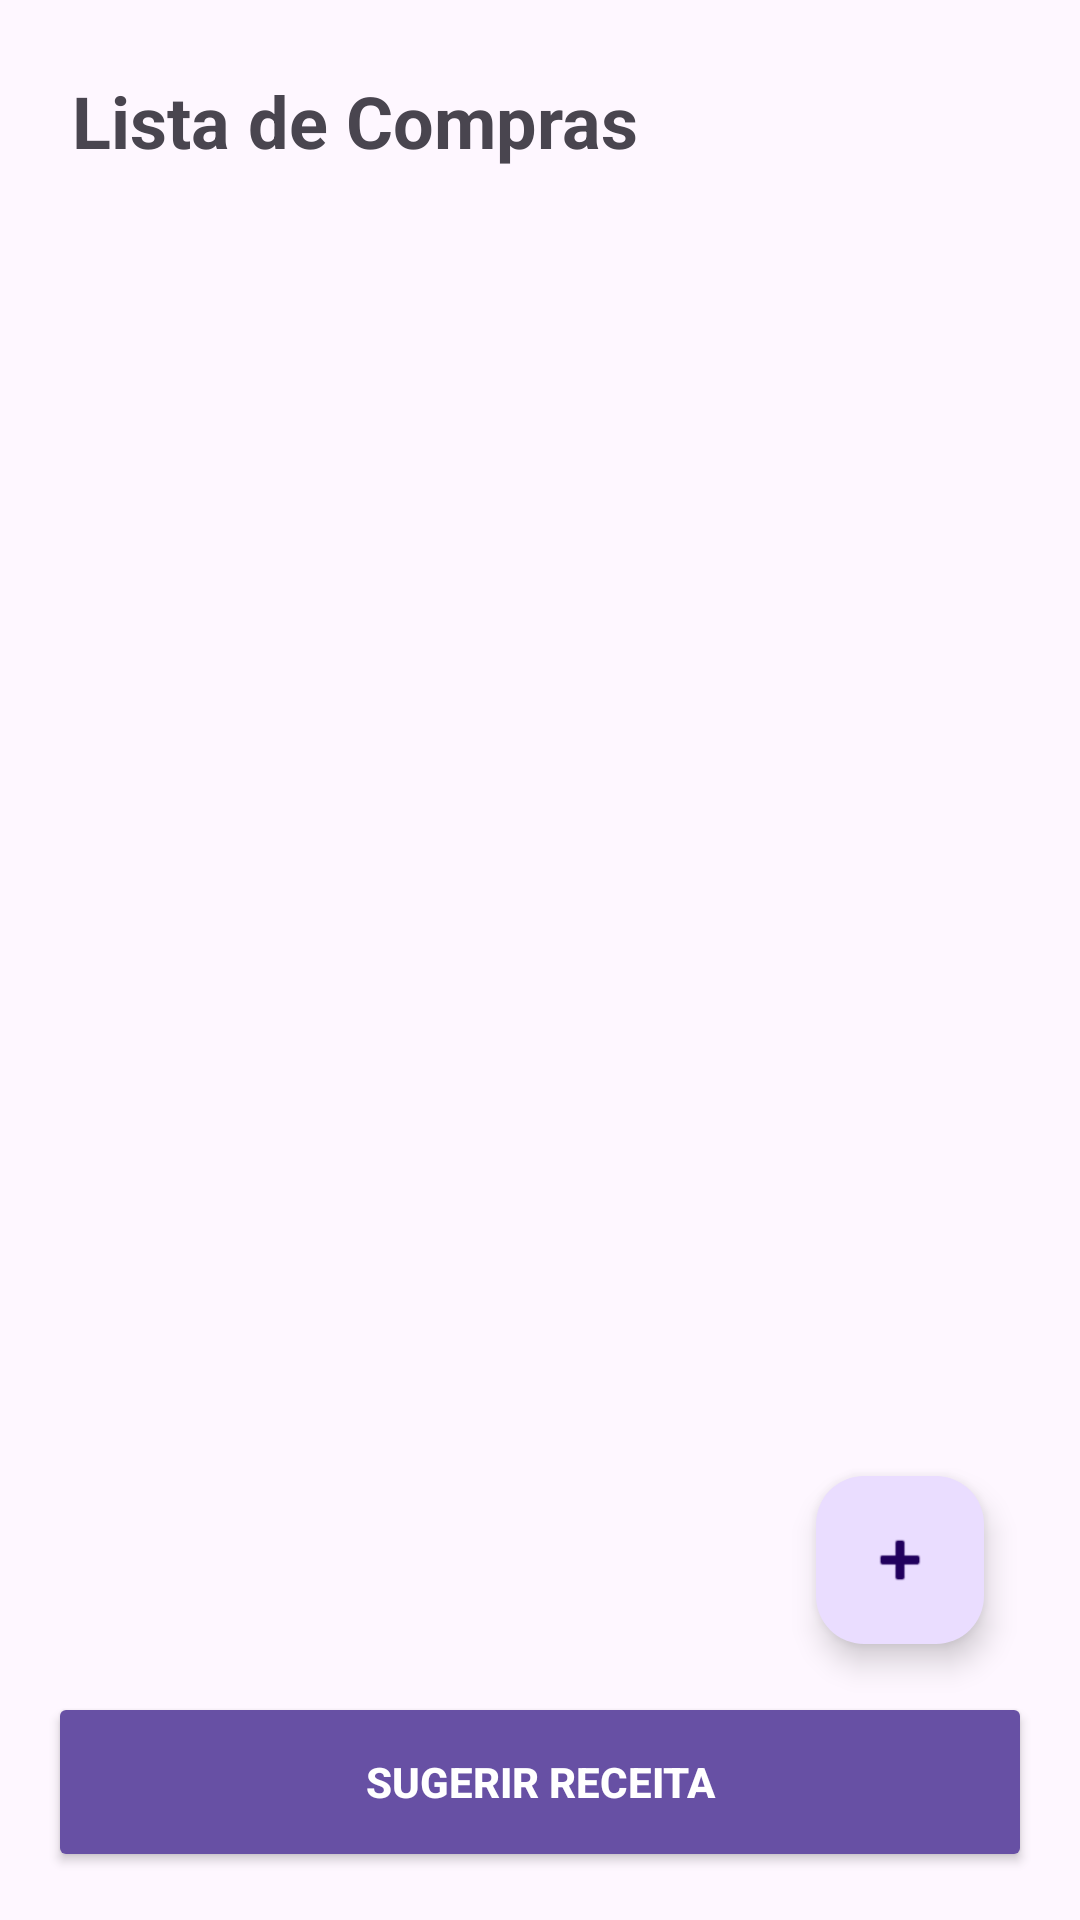

Point at icon controls on the screen. Image size 1080w x 1920h, points as (x,y).
Adicionar Item: (900,1560)
